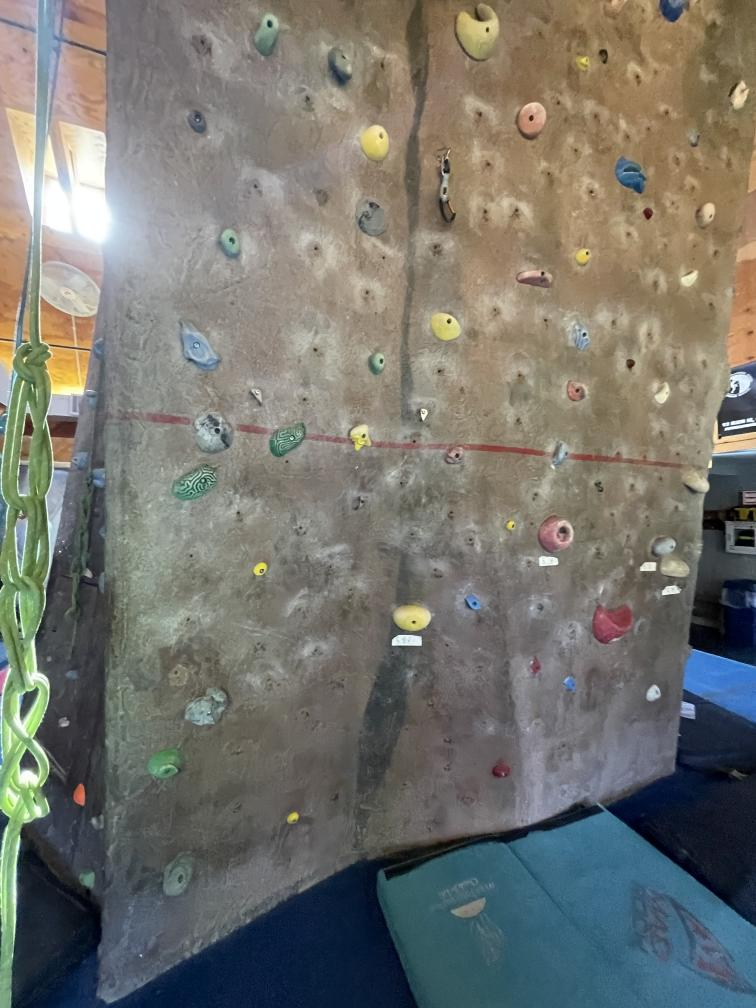Crimp: (587, 597, 640, 648), (178, 319, 224, 373), (512, 264, 559, 294), (546, 440, 576, 468), (570, 321, 596, 353), (676, 266, 701, 293), (654, 376, 672, 408)
Edges: (181, 684, 232, 734), (611, 152, 656, 198)
Foothold: (158, 854, 194, 903), (182, 104, 212, 138), (570, 241, 599, 274), (462, 590, 487, 616), (246, 558, 275, 580), (641, 680, 664, 706), (491, 760, 518, 782), (442, 445, 469, 467), (559, 673, 581, 697), (75, 868, 97, 891), (279, 809, 303, 830), (503, 516, 528, 536), (90, 812, 106, 834), (530, 655, 546, 672)
Jug: (449, 1, 504, 70), (511, 96, 553, 150), (389, 591, 438, 637), (252, 11, 290, 60), (354, 198, 396, 242), (321, 42, 360, 88), (358, 123, 395, 161), (678, 462, 714, 497), (430, 308, 464, 344), (691, 196, 721, 232), (342, 422, 374, 454), (657, 556, 692, 585), (220, 224, 247, 256), (646, 532, 682, 556), (563, 379, 590, 406), (364, 350, 386, 380)
Pinch: (138, 745, 189, 792), (727, 70, 751, 117), (570, 51, 592, 74)
Pocket: (532, 514, 583, 556)
Sloper: (189, 407, 236, 457), (168, 464, 220, 506), (263, 418, 308, 459)
